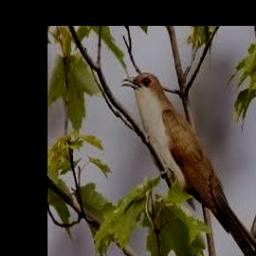Cuckoo: (120, 72, 256, 256)
